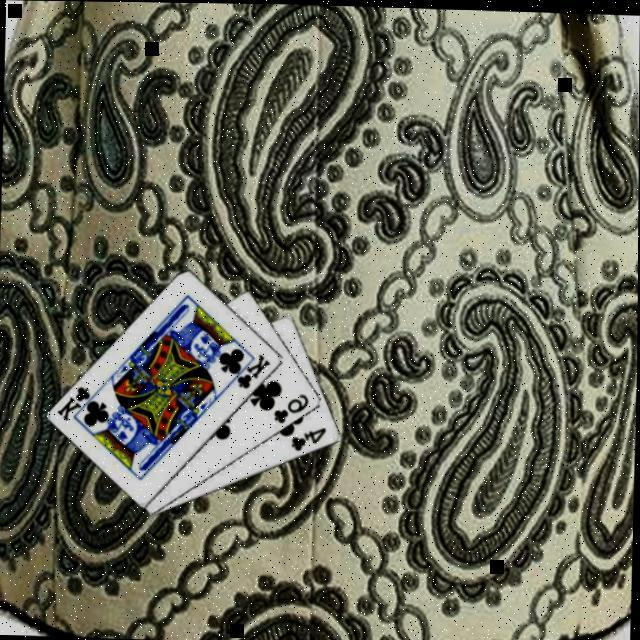4C: (290, 421, 331, 452)
6C: (273, 388, 314, 425)
KC: (228, 348, 275, 391), (56, 381, 103, 423)
